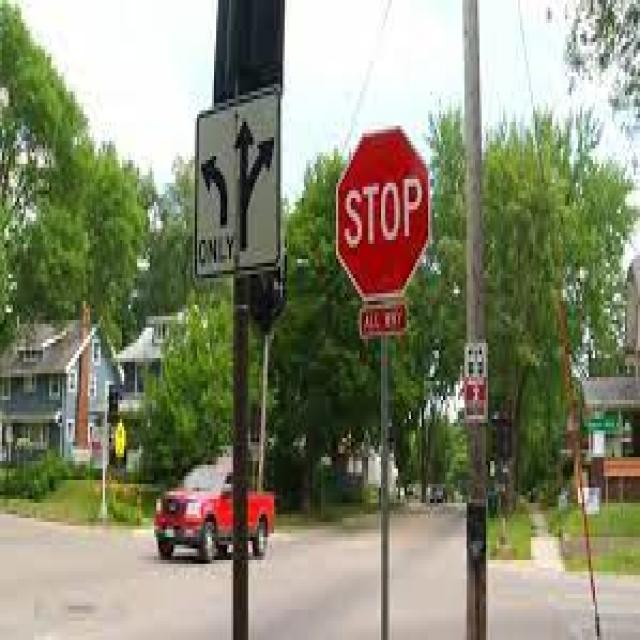stop-sign: (338, 158, 454, 296)
